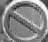No waiting: (1, 1, 44, 38)
